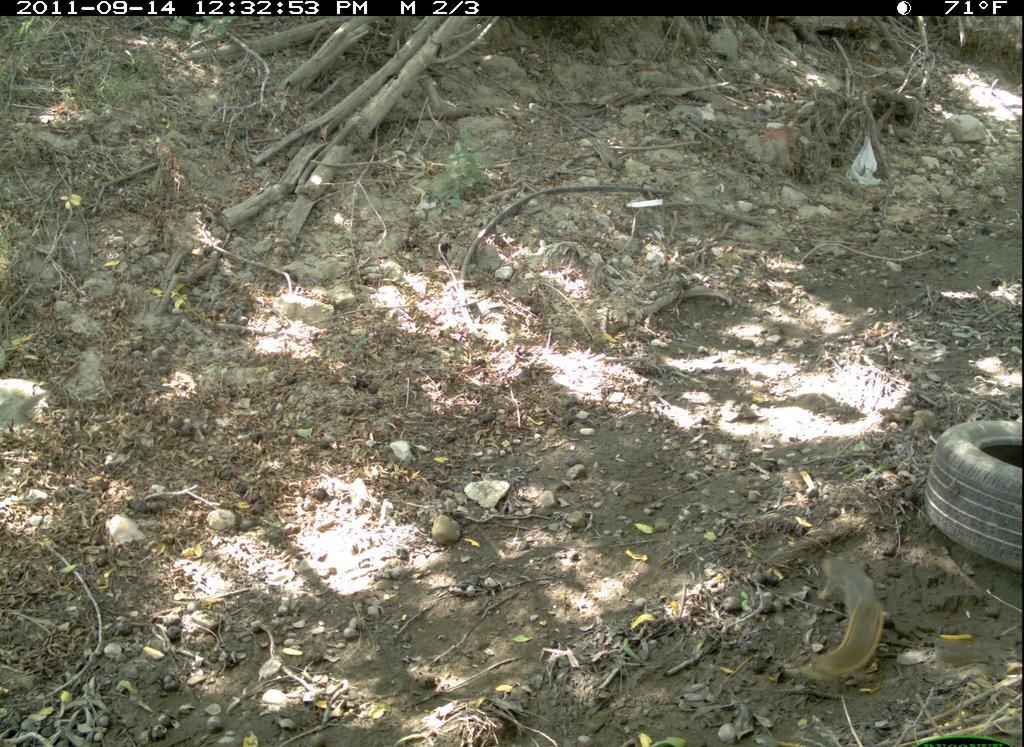squirrel: (780, 537, 929, 694)
